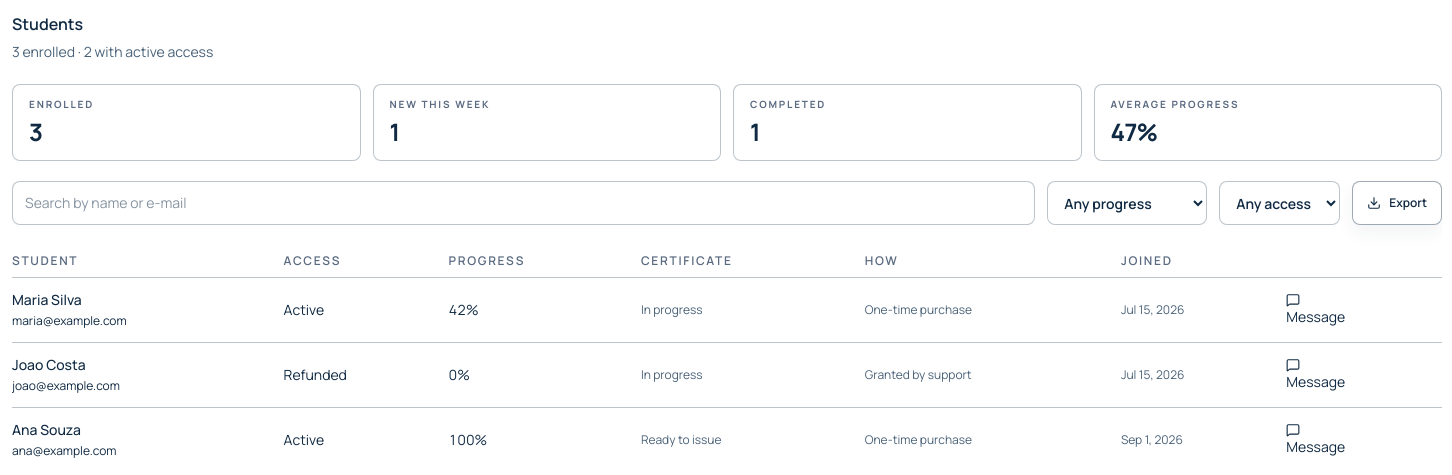
Test: CourseStudentRosterView › separates who finished from who never started, and who lost access
Step 1. Select "Completed" in the 1st dropdown named "Filter by progress" → (1127, 203), box [1047,181,1207,225]
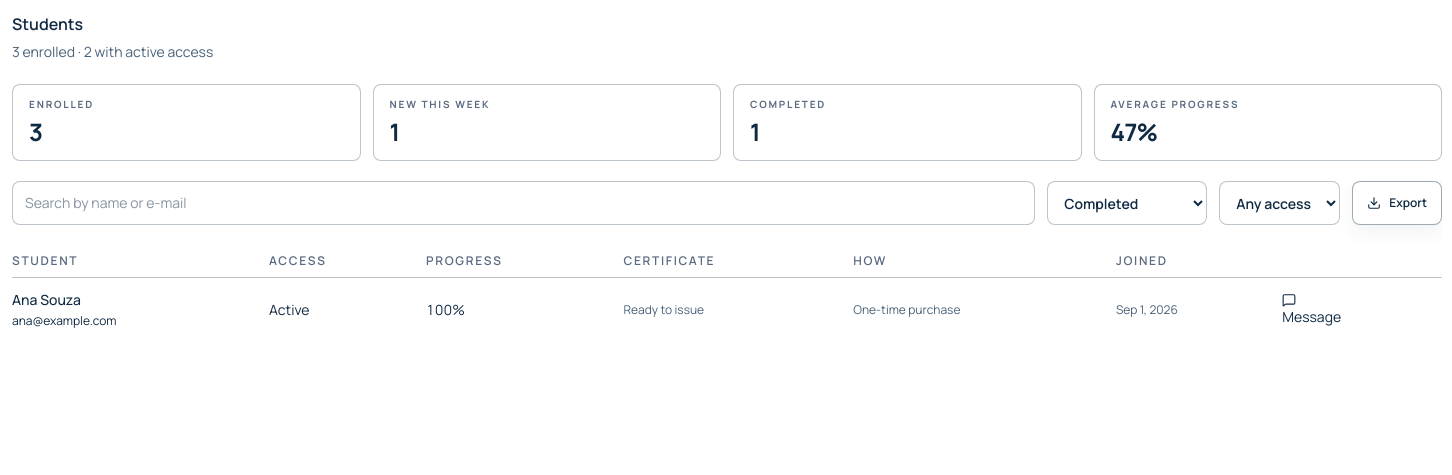
Expected: the text "Ana Souza" is shown, [12,290,81,309]
Now the text "Maria Silva" is gone
Step 2. Select "Not started (0%)" in the 1st dropdown named "Filter by progress" → (1127, 203), box [1047,181,1207,225]
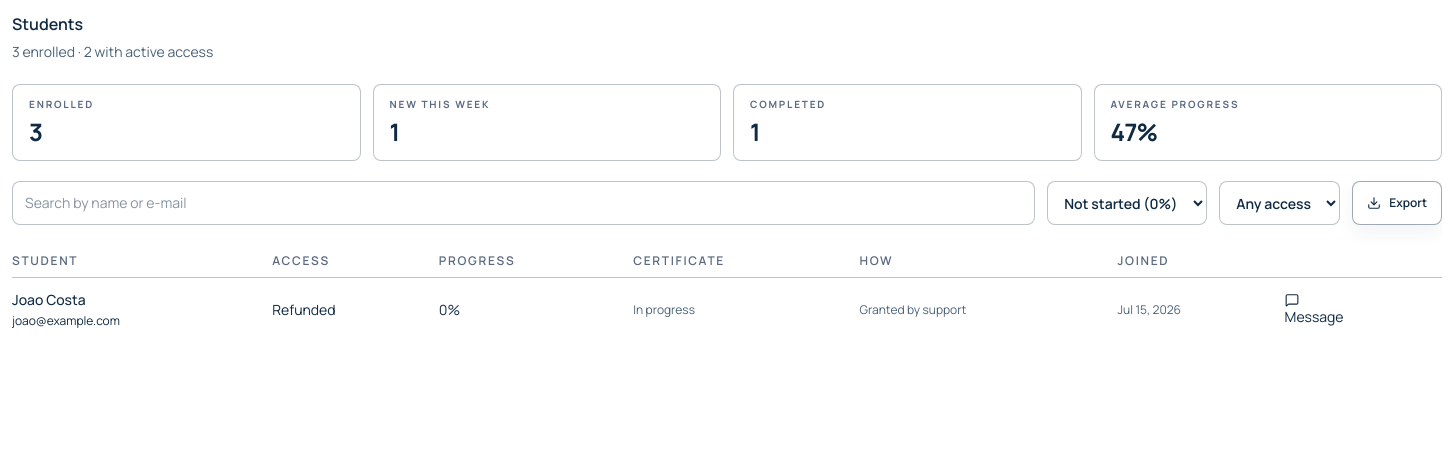
Now the text "Joao Costa" is shown, box [12,290,86,309]
Now the text "Ana Souza" is gone
Step 3. Select "Any progress" in the 1st dropdown named "Filter by progress" → (1127, 203), box [1047,181,1207,225]
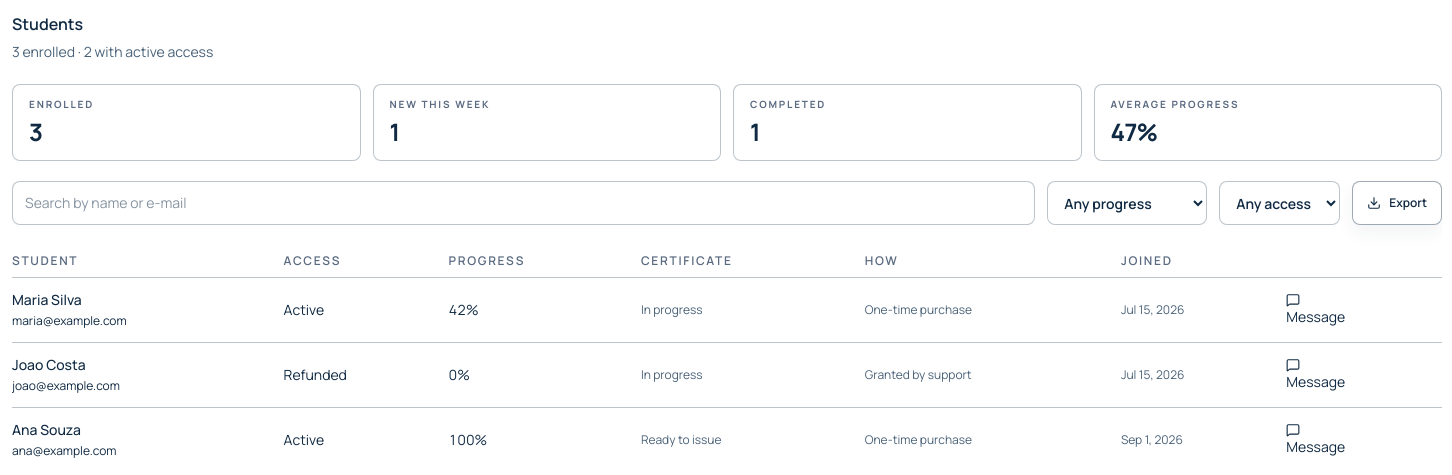
Step 4. Select "Refunded" in the 2nd dropdown named "Filter by access" → (1280, 203), box [1219,181,1340,225]
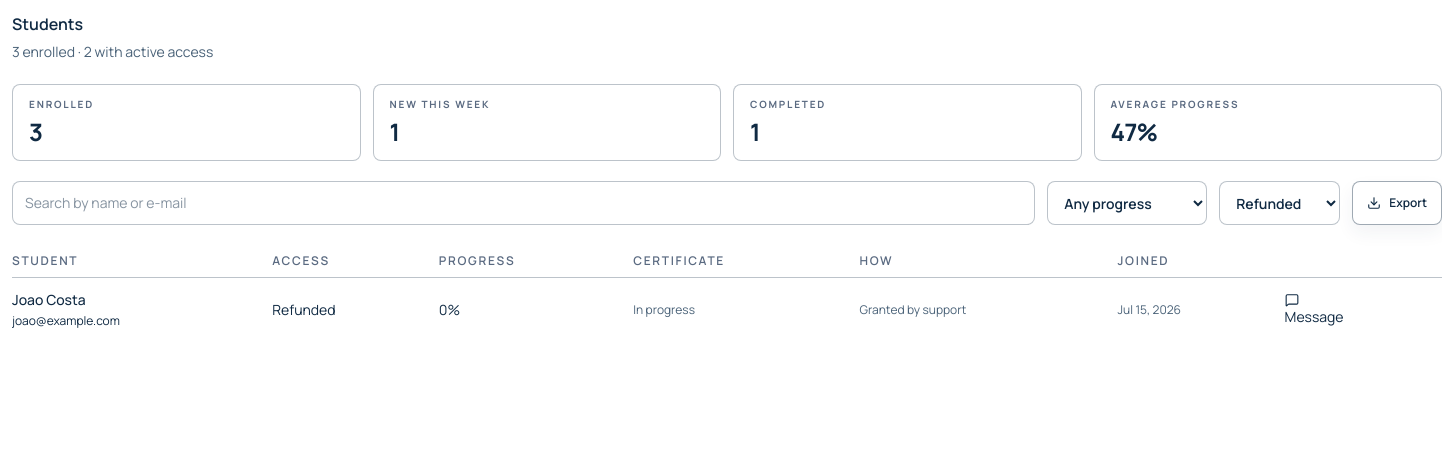
Now the text "Joao Costa" is shown, box [12,290,86,309]
Now the text "Maria Silva" is gone
